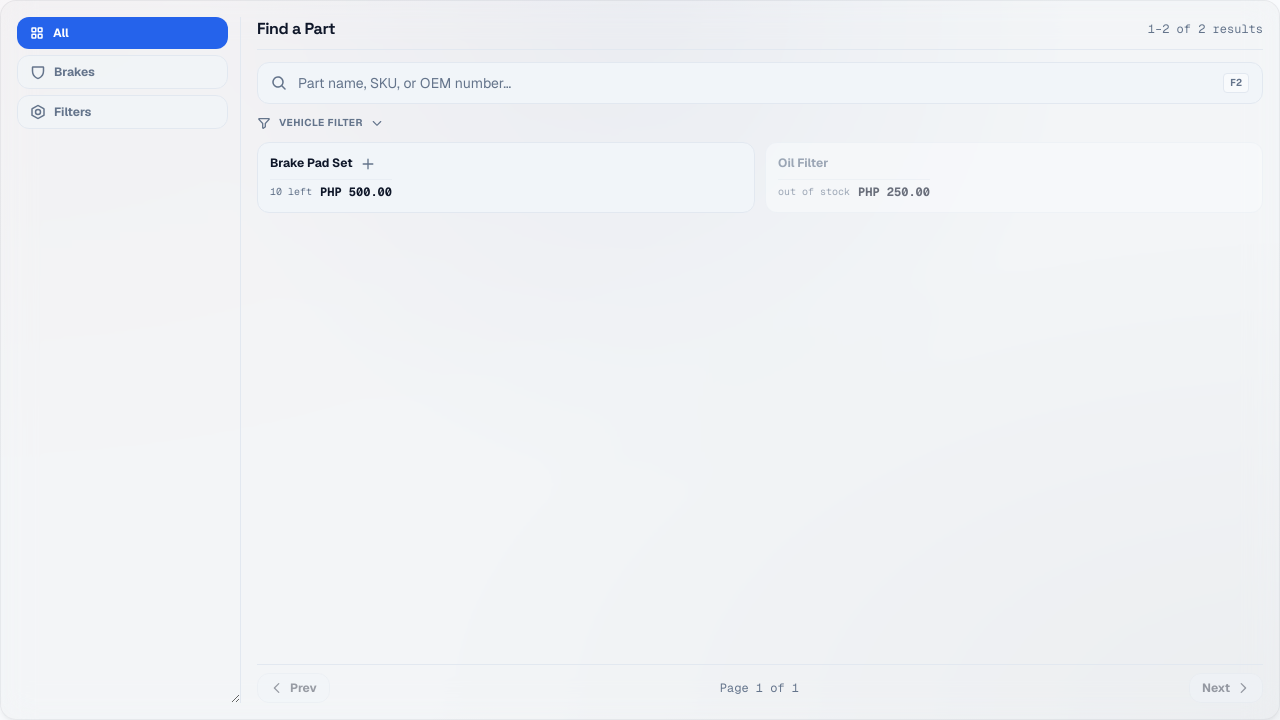
Scenario: PosCatalogPanel › shows a no-results message when nothing matches
The image size is (1280, 720).
Type "zzzzz" into the field named "search parts" at [760, 83], box [257,62,1263,104]
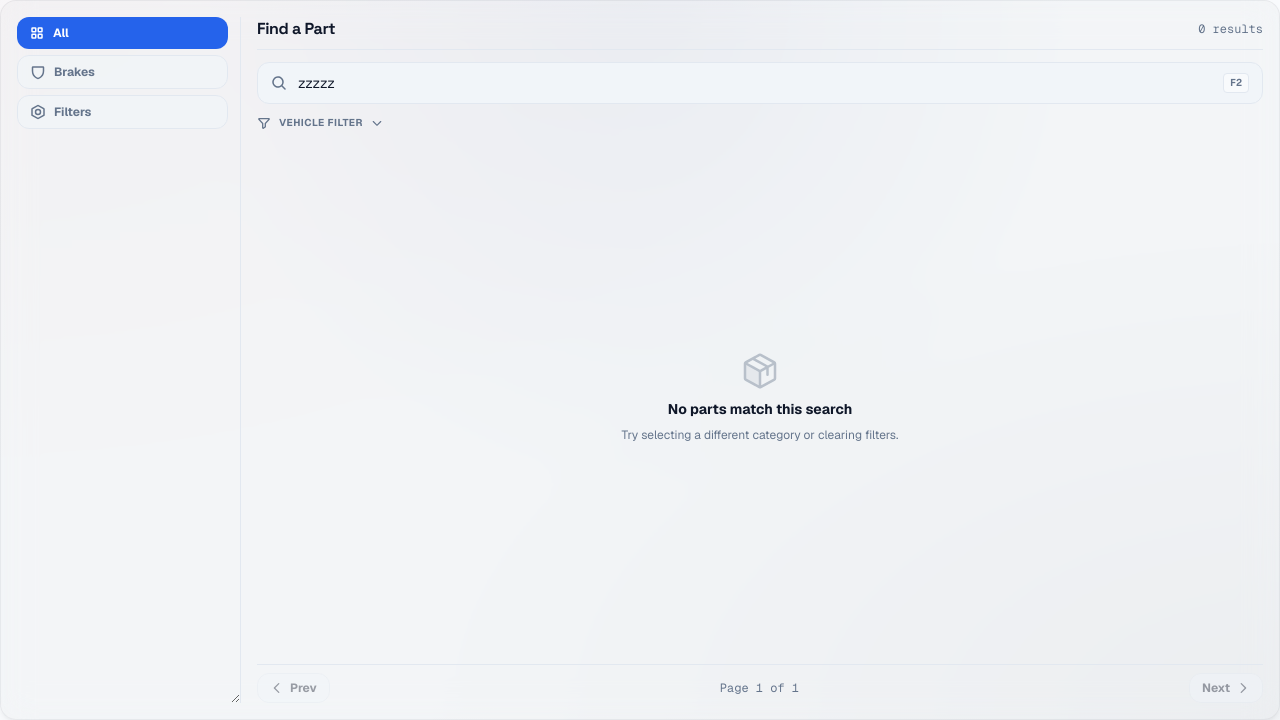
Check: the text "No parts match this search" is shown, box [668,399,852,419]
